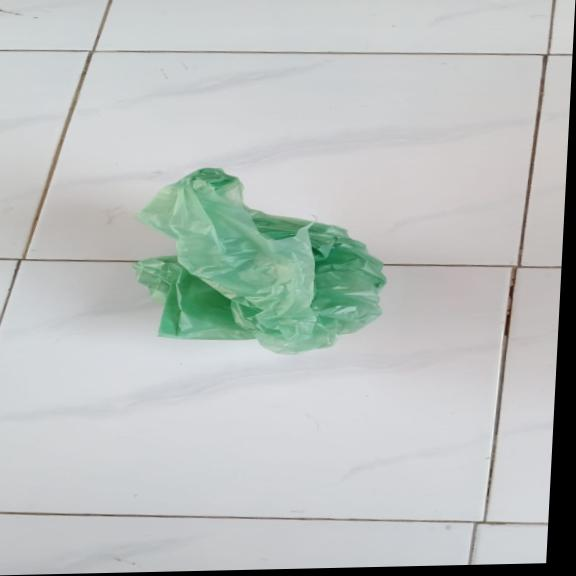Plastik: (125, 163, 393, 358)
